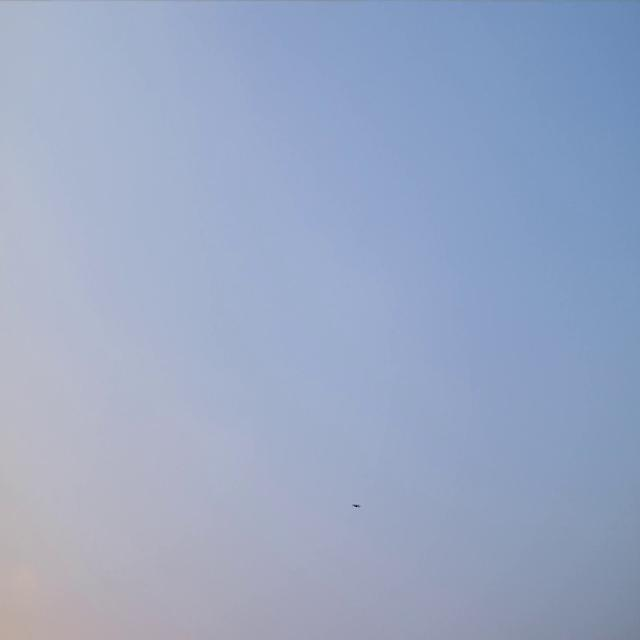UAV: (351, 502, 361, 508)
